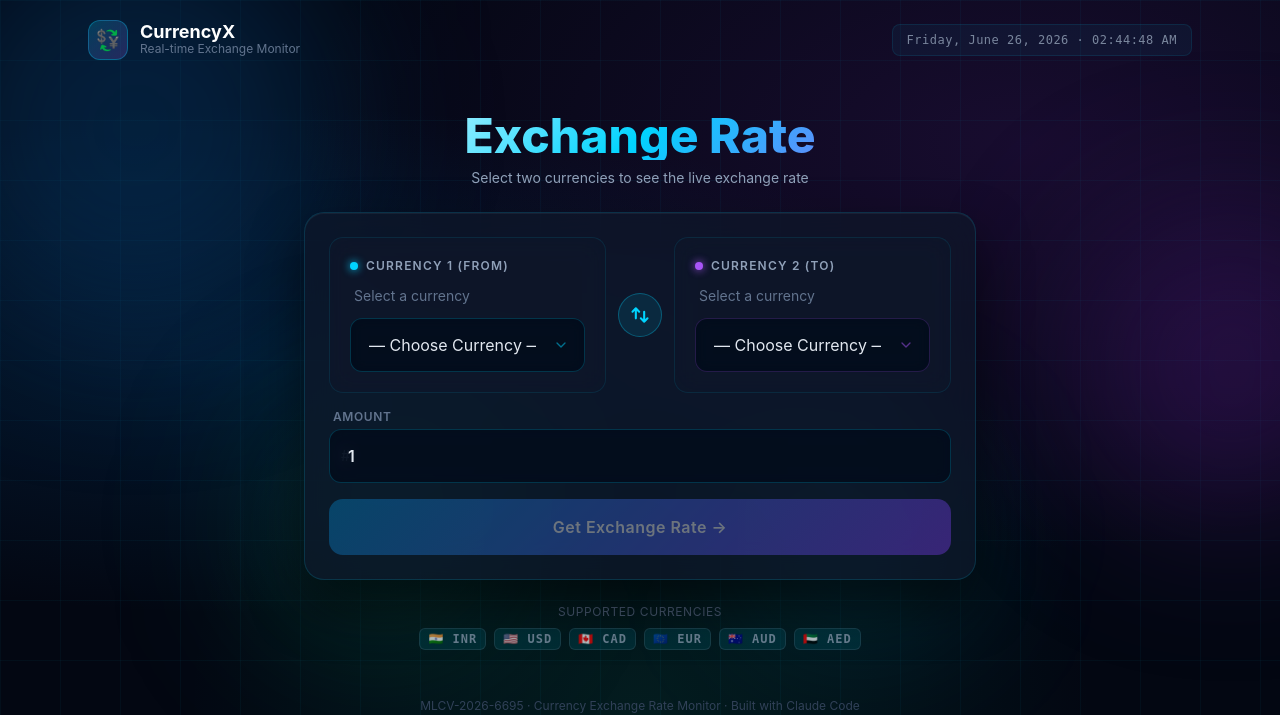
Test: TC-UI-05: Shows error on API failure (negative) › shows api-error element when fetchExchangeRate rejects
This screenshot has width=1280, height=715.
Select "🇺🇸 USD — US Dollars" in the dropdown with test id "currency1-select" at (468, 345), box [350,318,585,372]
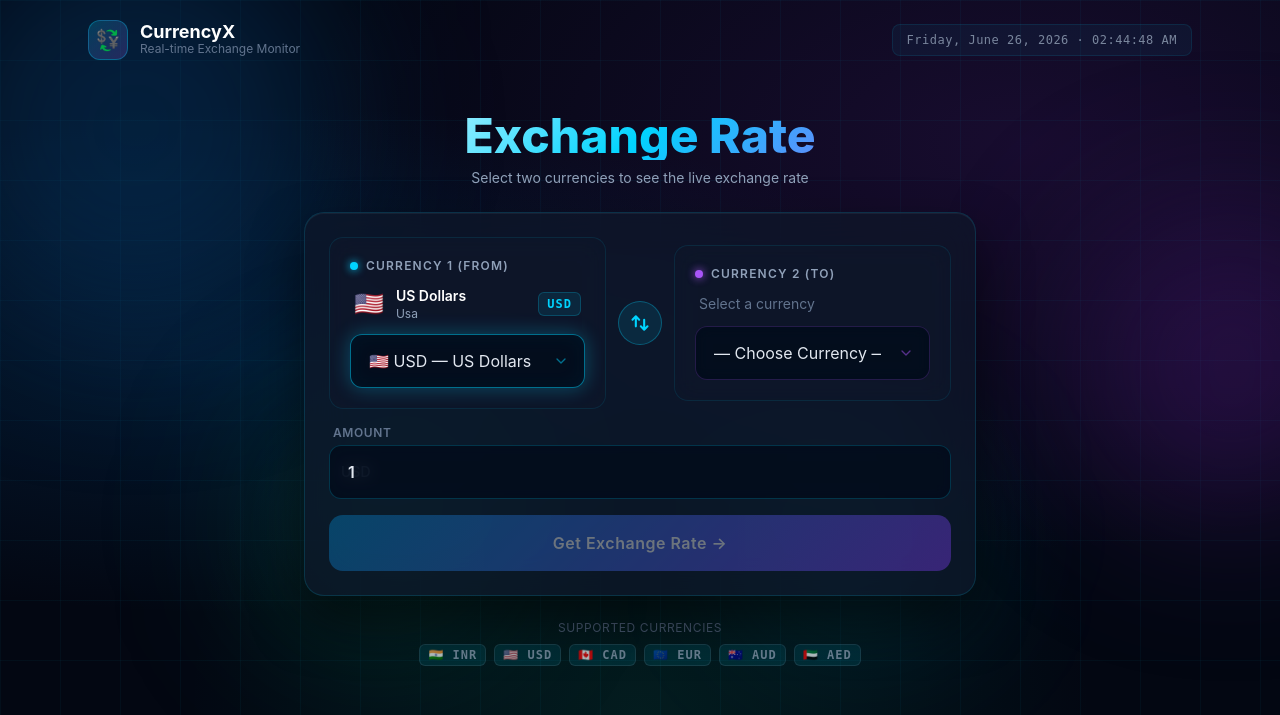
Select "🇮🇳 INR — Indian Rupees" in the dropdown with test id "currency2-select" at (812, 353), box [695,326,930,380]
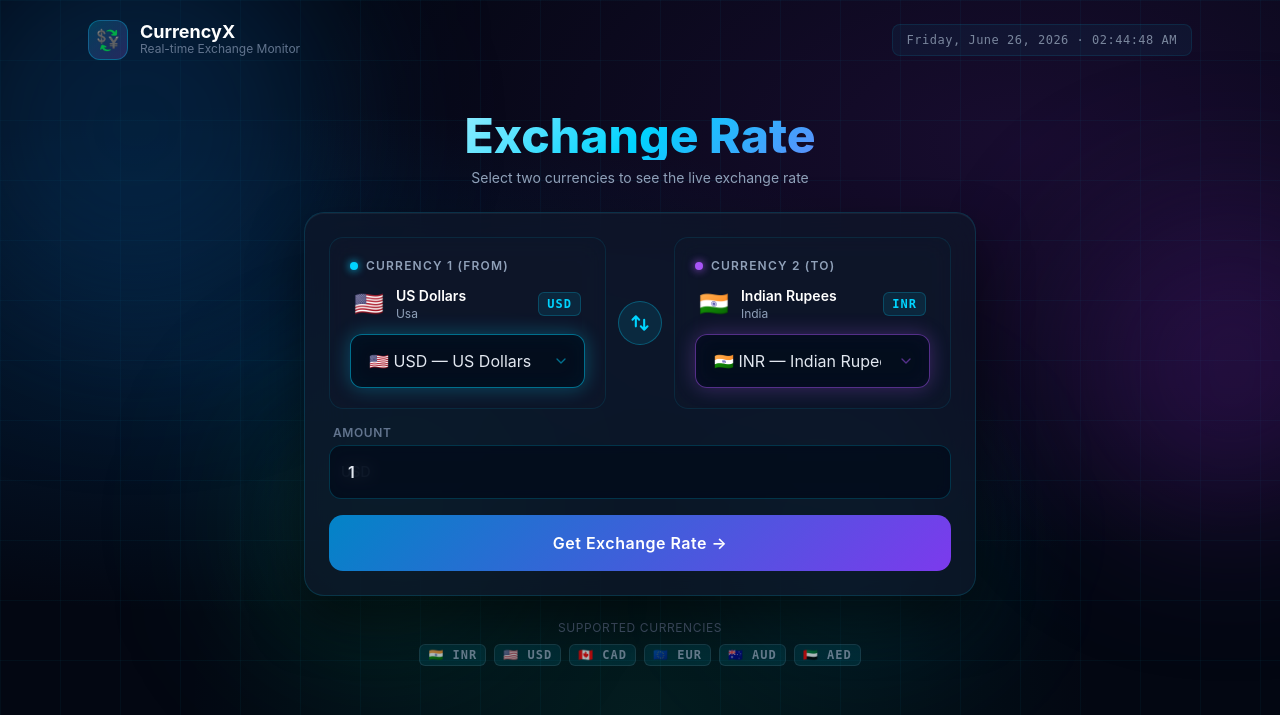
Click the button with test id "get-rate-button" at (640, 543), box [329,515,951,571]
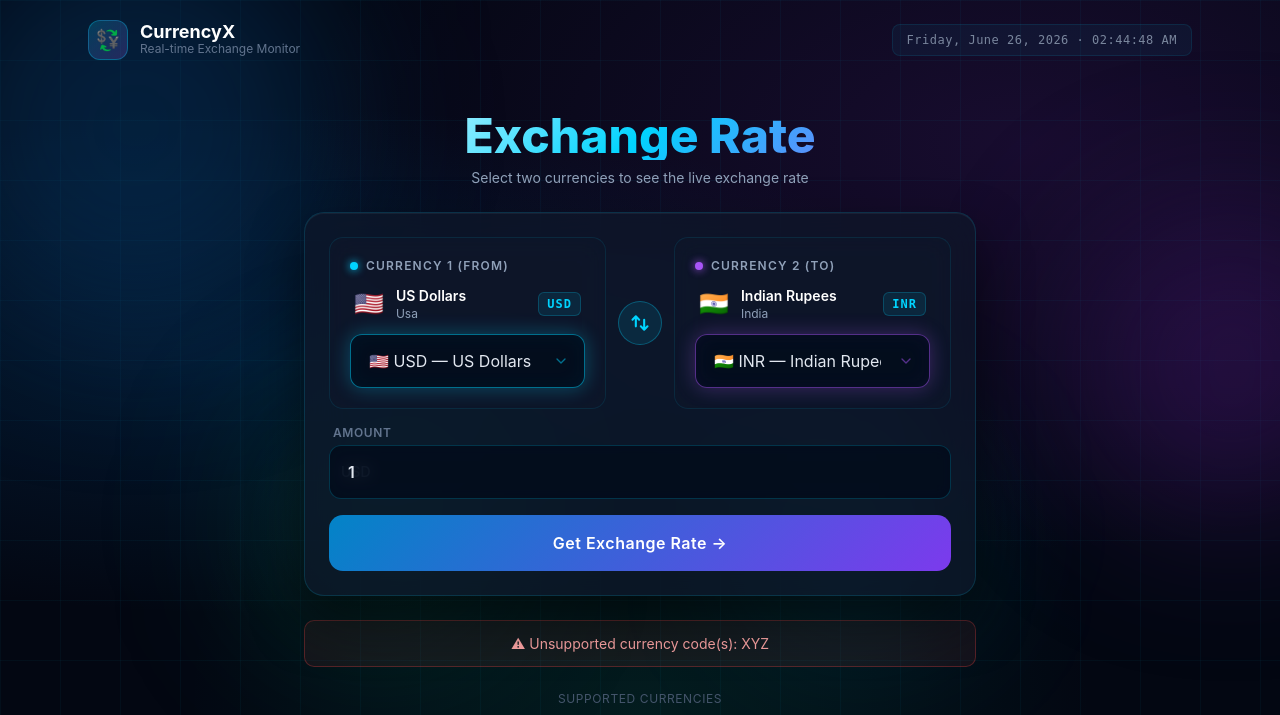
Expected: the text "⚠ Unsupported currency code(s): XYZ" is shown, [304,620,976,667]
